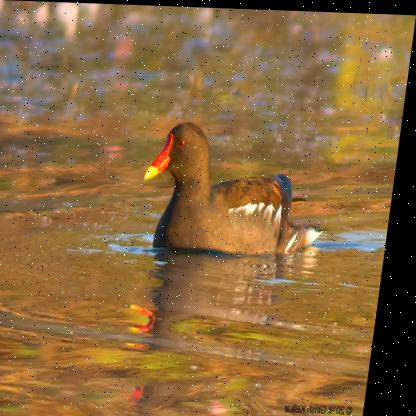Burung: (142, 119, 346, 257)
